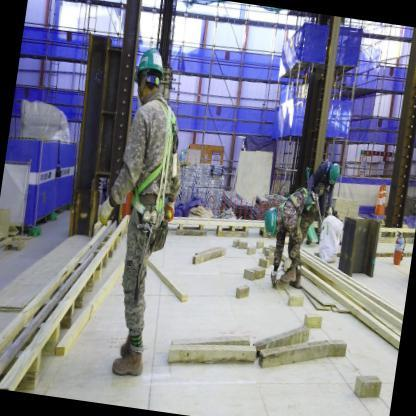Helmet: (128, 38, 170, 81), (257, 204, 280, 241)
safety-shoe: (106, 346, 152, 389), (279, 266, 305, 292)
